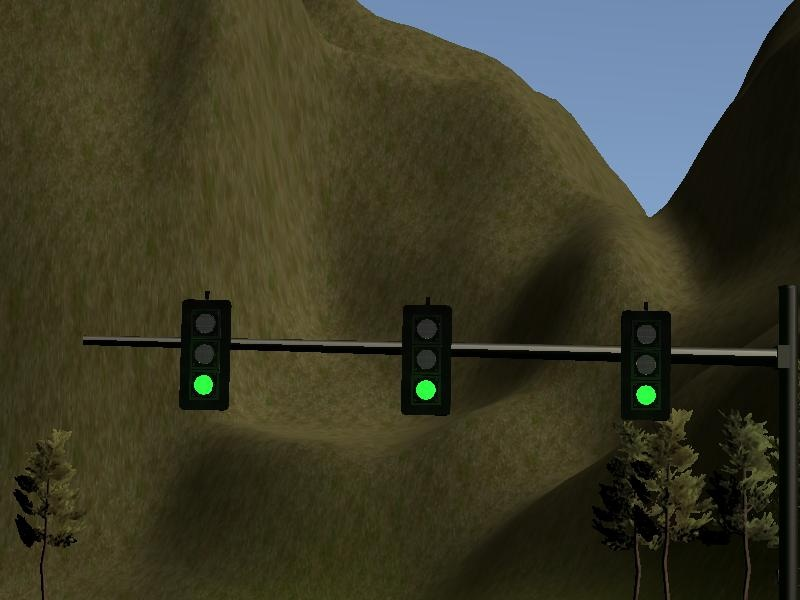GREEN: (179, 300, 231, 410), (402, 304, 454, 414), (619, 309, 671, 419)
